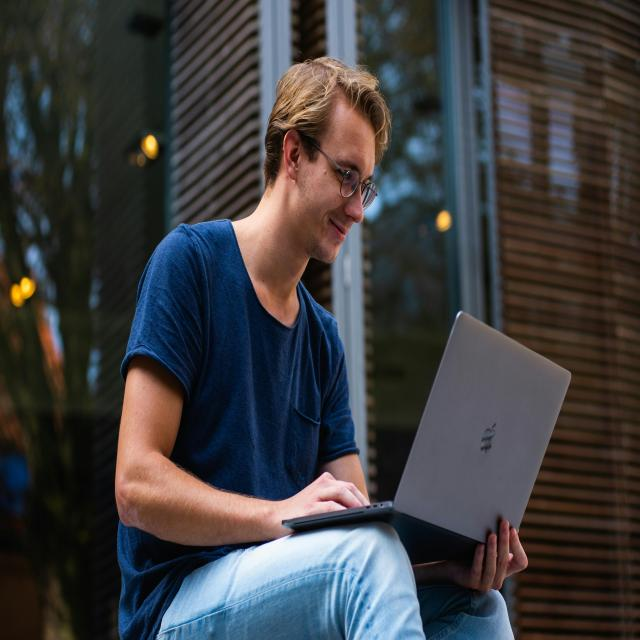sit: (112, 58, 561, 640)
